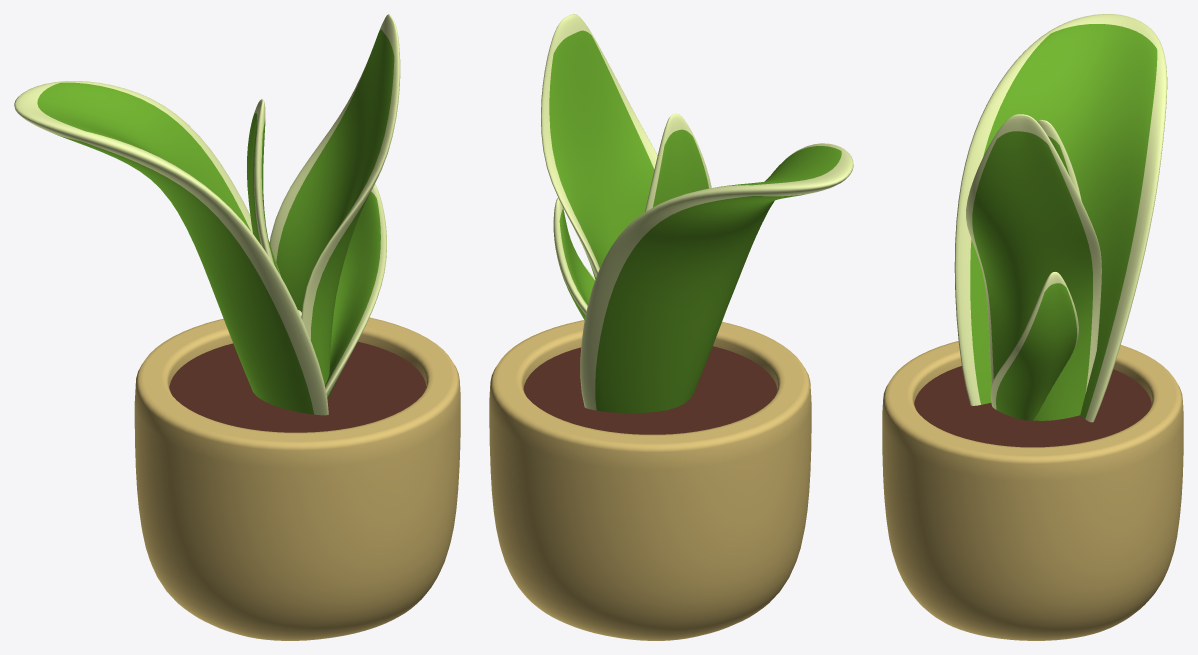
The model's file is snakeplant.gltf.
3 views of the same model, side by side, from view 1: azimuth 30°, elevation 25°; view 2: azimuth 150°, elevation 25°; view 3: azimuth 270°, elevation 25° (orthographic). The views are drawn at different scales.
Parts seen in each view (by area): view 1: Cube_6, Plane.003_5, Plane.001_3, Cube.001_1, Plane.002_4, Plane_2; view 2: Cube_6, Plane.003_5, Plane.001_3, Cube.001_1, Plane_2, Plane.002_4; view 3: Cube_6, Plane.003_5, Plane.001_3, Cube.001_1, Plane.002_4, Plane_2.
Part boxes in pixels (x1=…): Cube_6: x1=134, y1=317, x2=460, y2=640; Plane.003_5: x1=14, y1=81, x2=328, y2=415; Plane.001_3: x1=269, y1=14, x2=400, y2=385; Cube.001_1: x1=169, y1=342, x2=426, y2=432; Plane.002_4: x1=298, y1=183, x2=386, y2=398; Plane_2: x1=247, y1=99, x2=280, y2=276; Cube_6: x1=489, y1=320, x2=811, y2=640; Plane.003_5: x1=580, y1=143, x2=853, y2=413; Plane.001_3: x1=541, y1=14, x2=657, y2=279; Cube.001_1: x1=523, y1=346, x2=777, y2=434; Plane_2: x1=645, y1=113, x2=711, y2=211; Plane.002_4: x1=553, y1=198, x2=595, y2=319; Cube_6: x1=882, y1=341, x2=1183, y2=640; Plane.003_5: x1=954, y1=14, x2=1167, y2=422; Plane.001_3: x1=966, y1=114, x2=1101, y2=420; Cube.001_1: x1=914, y1=366, x2=1151, y2=447; Plane.002_4: x1=990, y1=272, x2=1078, y2=420; Plane_2: x1=1037, y1=119, x2=1081, y2=201.
Size of the model in its own units: 98.09 by 141 by 72.41.
